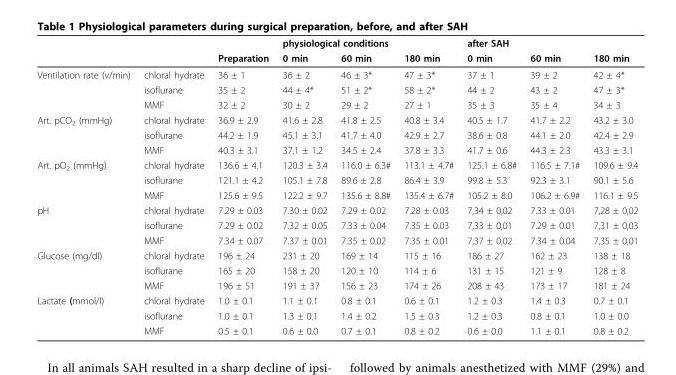table: (36, 36, 637, 336)
table column: (36, 36, 136, 336), (136, 36, 210, 336), (210, 36, 274, 336), (333, 36, 396, 336), (396, 36, 459, 336), (459, 36, 522, 336), (522, 36, 585, 336), (274, 36, 333, 336), (585, 36, 637, 336)
table column header: (36, 36, 637, 66)
table row: (36, 50, 637, 66), (36, 96, 637, 112), (36, 66, 637, 81), (36, 81, 637, 96), (36, 112, 637, 127), (36, 127, 637, 142), (36, 142, 637, 157), (36, 157, 637, 172), (36, 172, 637, 187), (36, 187, 637, 202), (36, 202, 637, 217), (36, 217, 637, 232), (36, 232, 637, 247), (36, 247, 637, 262), (36, 262, 637, 277), (36, 277, 637, 292), (36, 292, 637, 307), (36, 307, 637, 322), (36, 36, 637, 50), (36, 322, 637, 336)
table spanning cell: (36, 66, 136, 112), (36, 112, 136, 157), (36, 157, 136, 202), (36, 202, 136, 247), (36, 247, 136, 292), (36, 292, 136, 336), (274, 36, 459, 50), (459, 36, 637, 50), (210, 36, 274, 66)
